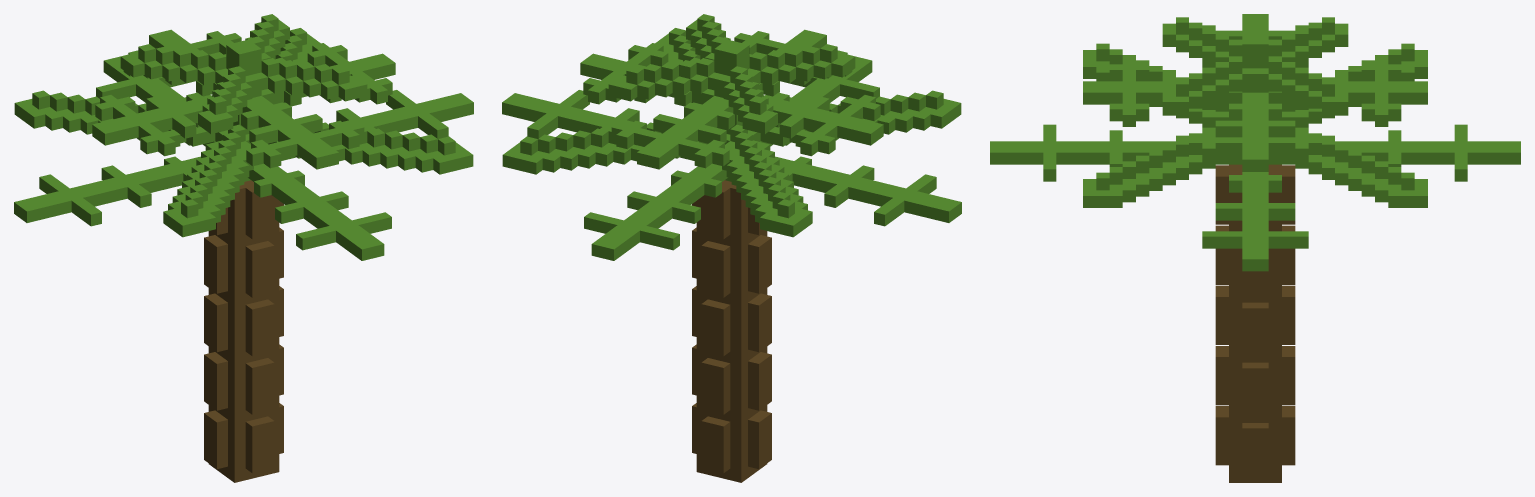
The model's file is Background_C_tree_02.FBX.
3 views of the same model, side by side, from view 1: azimuth 30°, elevation 25°; view 2: azimuth 150°, elevation 25°; view 3: azimuth 270°, elevation 25° (orthographic). The views are drawn at different scales.
Visible parts, largest first — view 1: Background_C-7; view 2: Background_C-7; view 3: Background_C-7.
Boxes of the visible parts, box(x1,y1,x2,y2) form: Background_C-7: box(14, 14, 473, 482); Background_C-7: box(502, 14, 961, 482); Background_C-7: box(990, 14, 1520, 482).
Bounding box in the file's own units: 4 × 3.6 × 4.
Materials: 1 (1 with a texture image).
